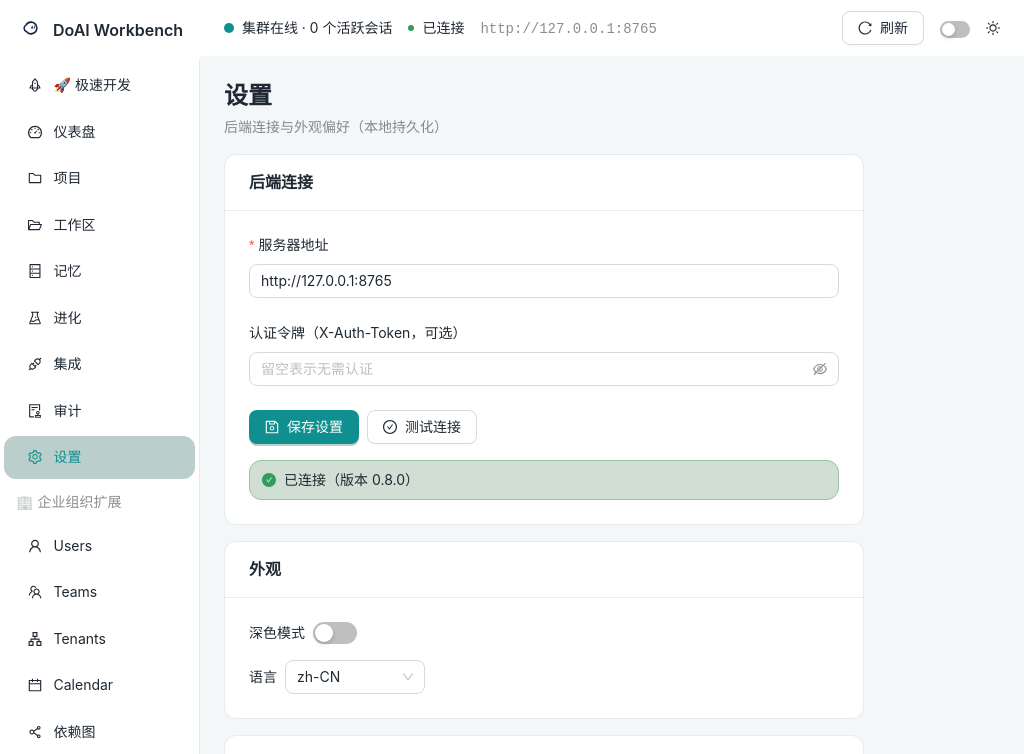
Test: i18n › 设置页切换 en-US 后界面渲染英文并同步 documentElement.lang
Click the element showing "zh-CN": (355, 677) left=285, top=660, right=425, bottom=694
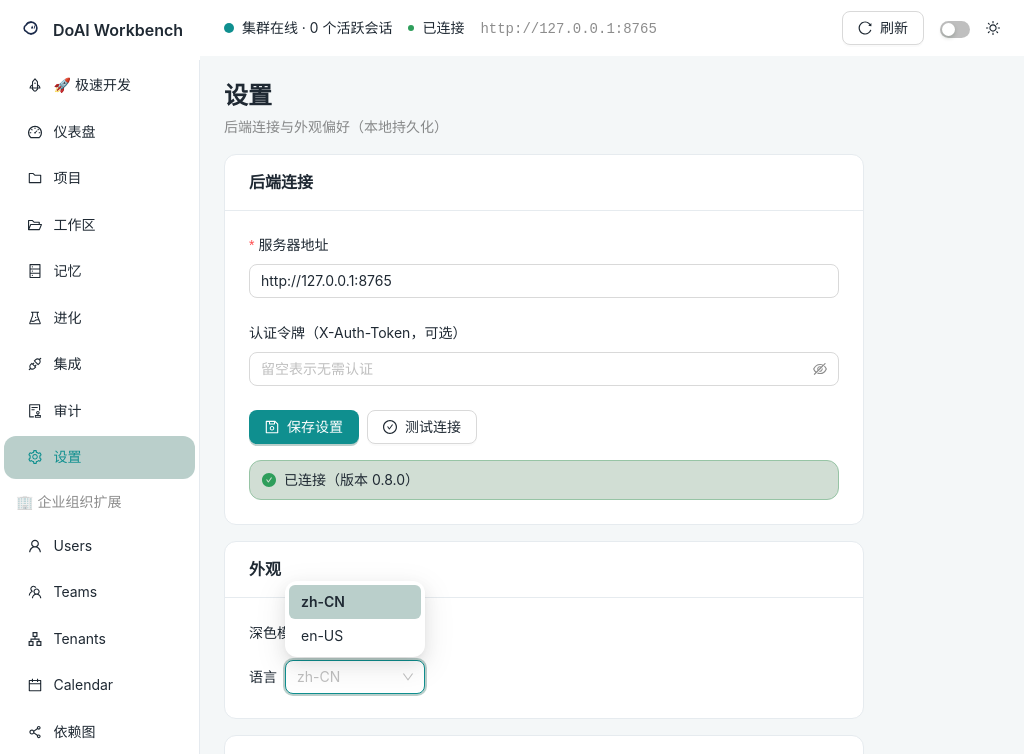
Click the element titled "en-US": (322, 636) left=301, top=627, right=343, bottom=644
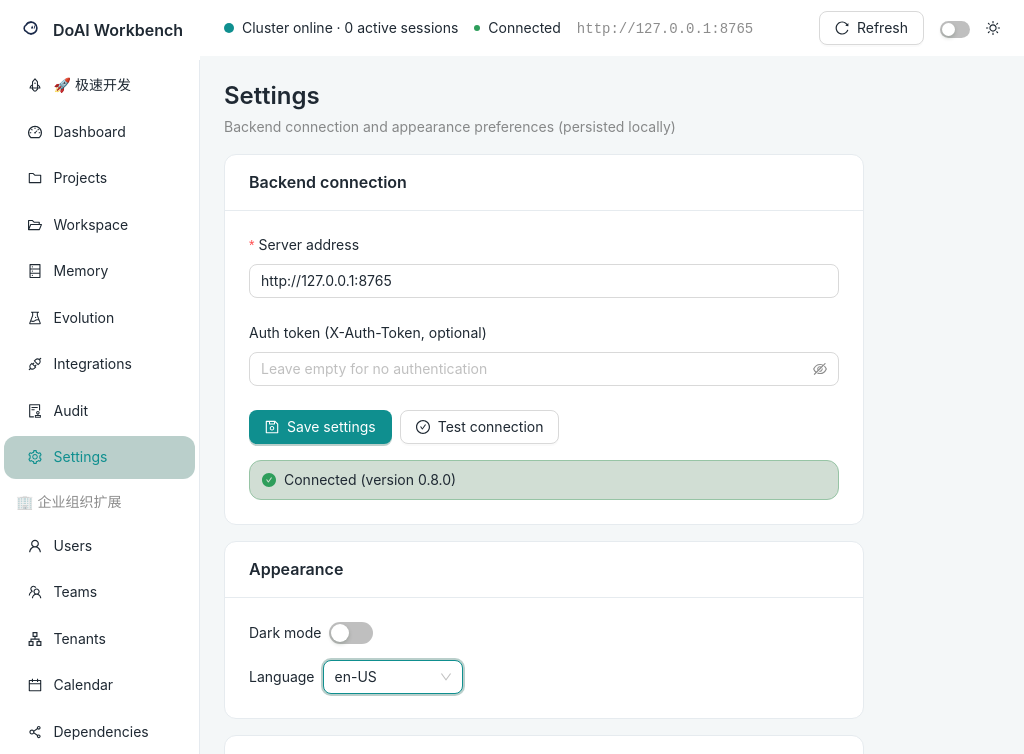
Expected: the text "Server address" is shown, left=258, top=236, right=359, bottom=253
Expected: the text "Dashboard" is shown, left=54, top=122, right=126, bottom=140
